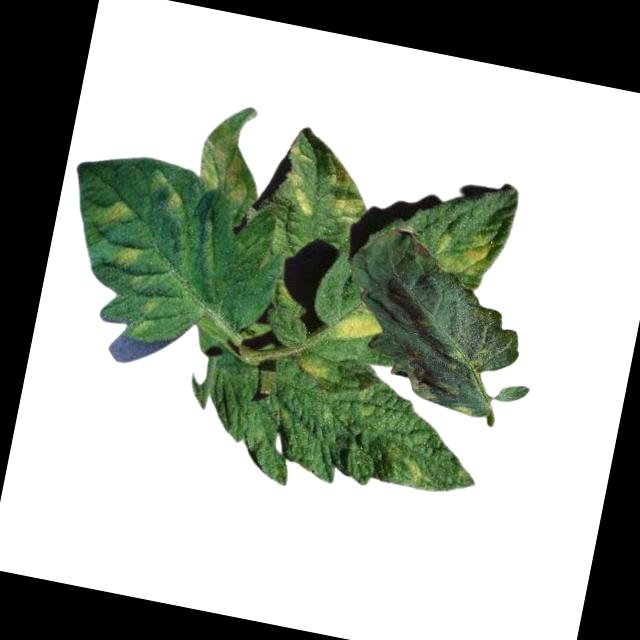Leaf_Mold: (191, 99, 266, 205), (390, 349, 498, 420), (427, 216, 504, 283), (276, 140, 327, 218), (314, 160, 372, 225), (377, 442, 428, 489), (143, 167, 191, 216), (331, 307, 384, 344), (293, 346, 335, 381), (93, 193, 131, 231), (114, 243, 143, 273)
